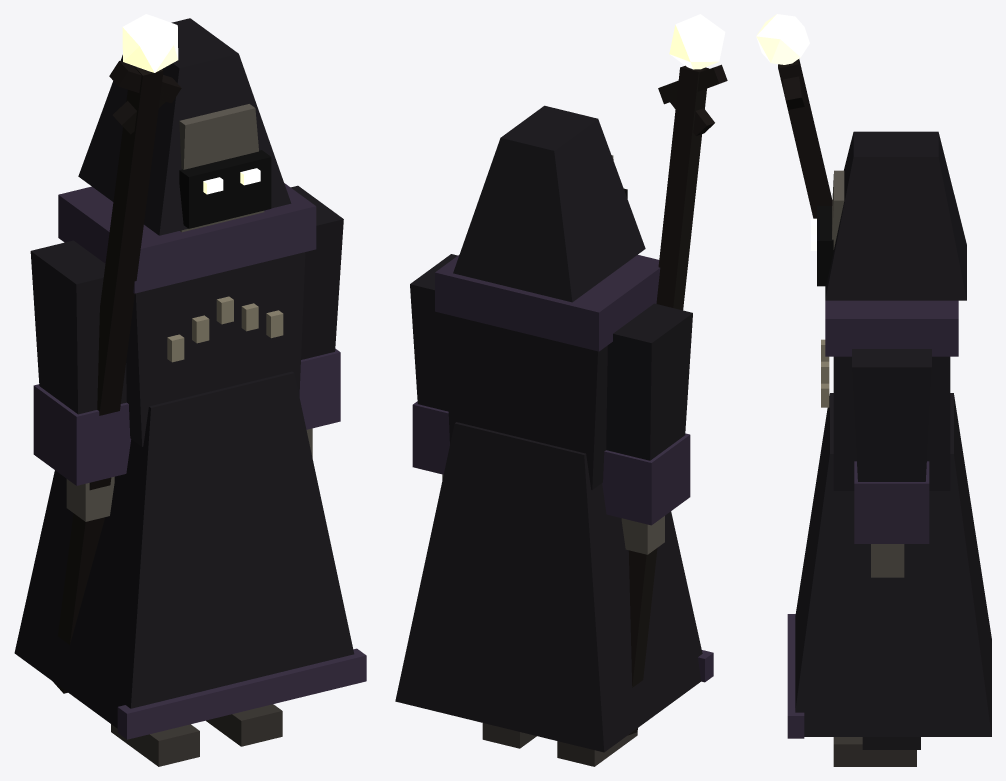
Rendered from seer.glb.
The picture shows the model from 3 angles, left to right: view 1: azimuth 30°, elevation 25°; view 2: azimuth 150°, elevation 25°; view 3: azimuth 270°, elevation 25°; orthographic projection. The views are drawn at different scales.
Visible parts, largest first — view 1: Torso, Head, Arm_R, Weapon, Arm_L, Leg_R, Leg_L; view 2: Torso, Head, Arm_R, Weapon, Arm_L, Leg_R, Leg_L; view 3: Torso, Head, Arm_L, Weapon, Leg_L.
Boxes of the visible parts, x1,y1,x2,y2 form: Torso: (14, 183, 366, 739); Head: (78, 18, 291, 235); Arm_R: (30, 240, 131, 521); Weapon: (52, 14, 181, 693); Arm_L: (291, 185, 343, 457); Leg_R: (111, 724, 199, 766); Leg_L: (206, 704, 282, 746); Torso: (395, 255, 713, 752); Head: (453, 105, 645, 302); Arm_R: (602, 303, 692, 554); Weapon: (628, 14, 727, 735); Arm_L: (410, 254, 457, 479); Leg_R: (557, 732, 637, 766); Leg_L: (482, 723, 536, 748); Torso: (787, 300, 991, 738); Head: (810, 131, 966, 300); Arm_L: (852, 349, 931, 577); Weapon: (756, 14, 832, 218); Leg_L: (833, 737, 920, 766).
Size of the model in its own units: 0.648 by 1.81 by 0.5659.
